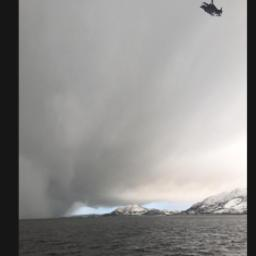Crow: (200, 0, 223, 17)
